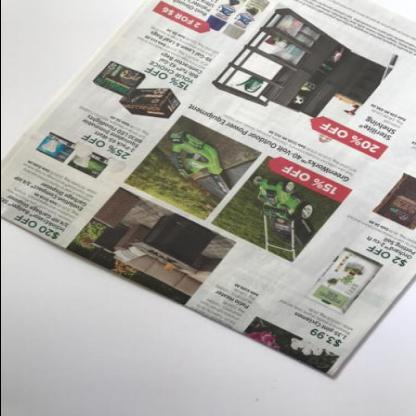Paper: (1, 0, 416, 379)
